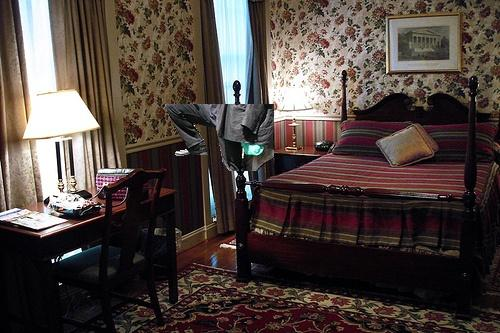tampered: (165, 105, 274, 171)
